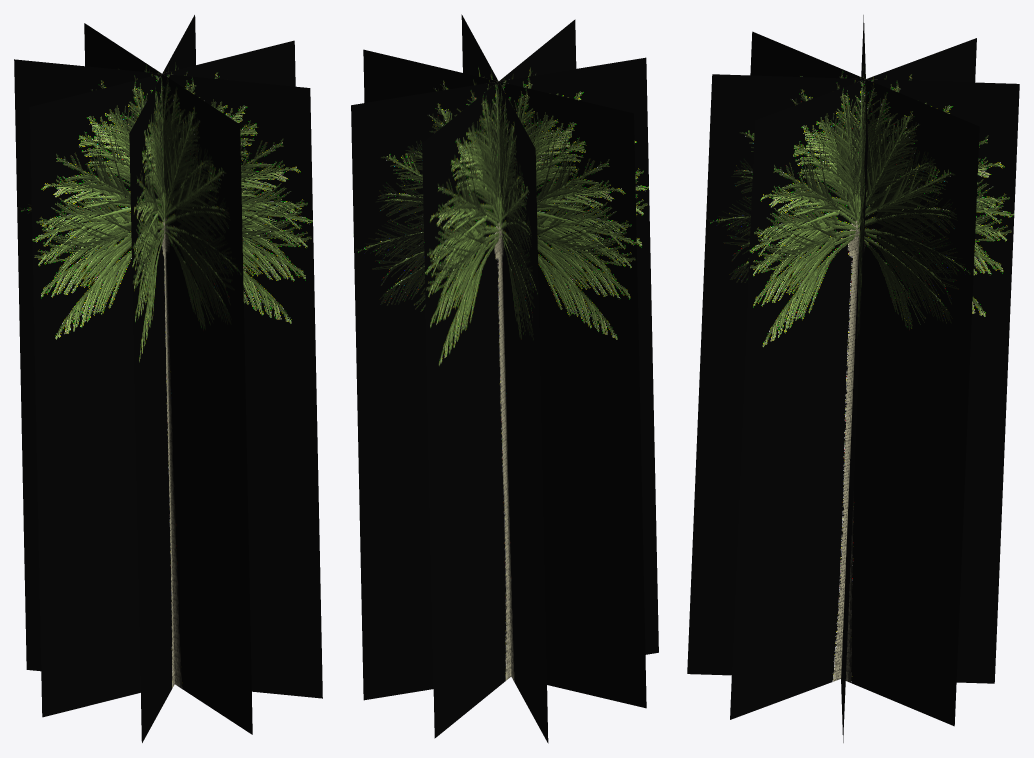
File: 2D_PalmTree.fbx
3 views of the same model, side by side, from view 1: azimuth 30°, elevation 25°; view 2: azimuth 150°, elevation 25°; view 3: azimuth 270°, elevation 25° (orthographic).
Visible parts, largest first — view 1: pPlane1, pPlane3, pPlane2, pPlane4; view 2: pPlane1, pPlane4, pPlane2, pPlane3; view 3: pPlane4, pPlane3, pPlane2, pPlane1.
Boxes of the visible parts, bbox=[...] form: pPlane1: bbox=[29, 40, 295, 717]; pPlane3: bbox=[14, 59, 322, 698]; pPlane2: bbox=[84, 23, 252, 734]; pPlane4: bbox=[129, 15, 195, 742]; pPlane1: bbox=[363, 49, 646, 708]; pPlane4: bbox=[351, 57, 658, 700]; pPlane2: bbox=[422, 19, 576, 738]; pPlane3: bbox=[461, 14, 548, 743]; pPlane4: bbox=[750, 31, 979, 726]; pPlane3: bbox=[730, 38, 976, 719]; pPlane2: bbox=[687, 74, 1019, 683]; pPlane1: bbox=[841, 15, 867, 742].
Size of the model in its own units: 2.03 by 4.43 by 2.19.
Materials: 1 (1 with a texture image).
